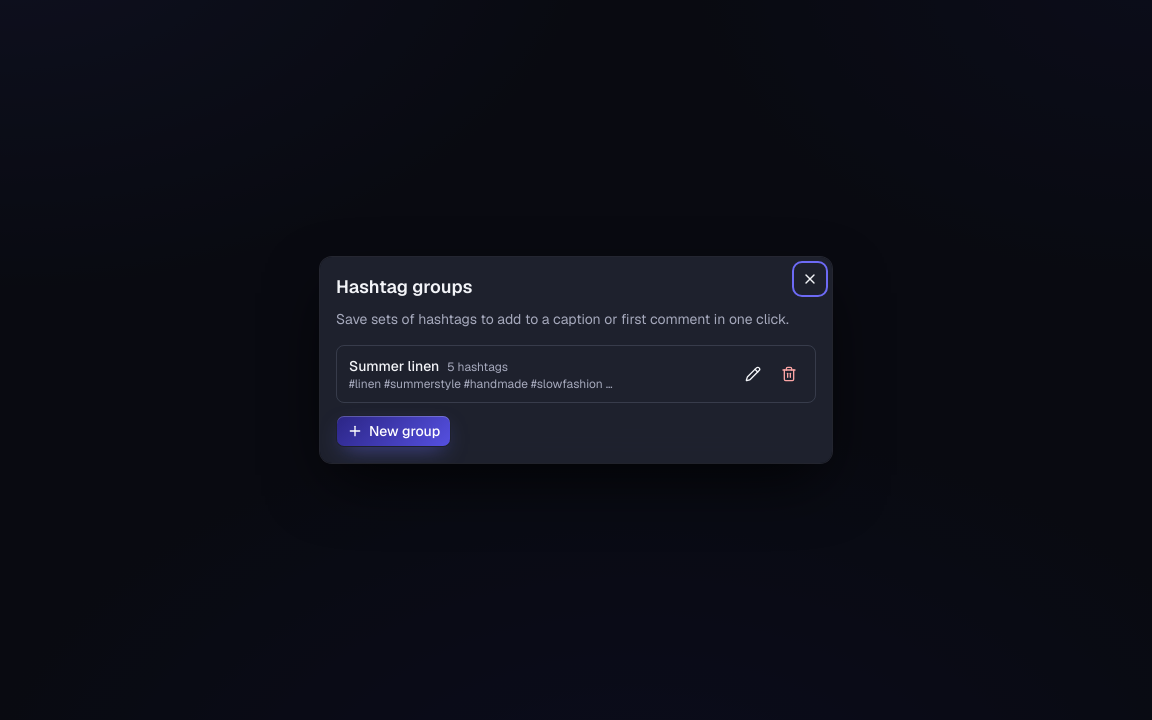
it: HashtagGroupsDialog (UX-SCR-14, FR-PUB-12) › shows the API's field error
Step 1. Click the button "New group" → click(394, 431), box [336,415,451,447]
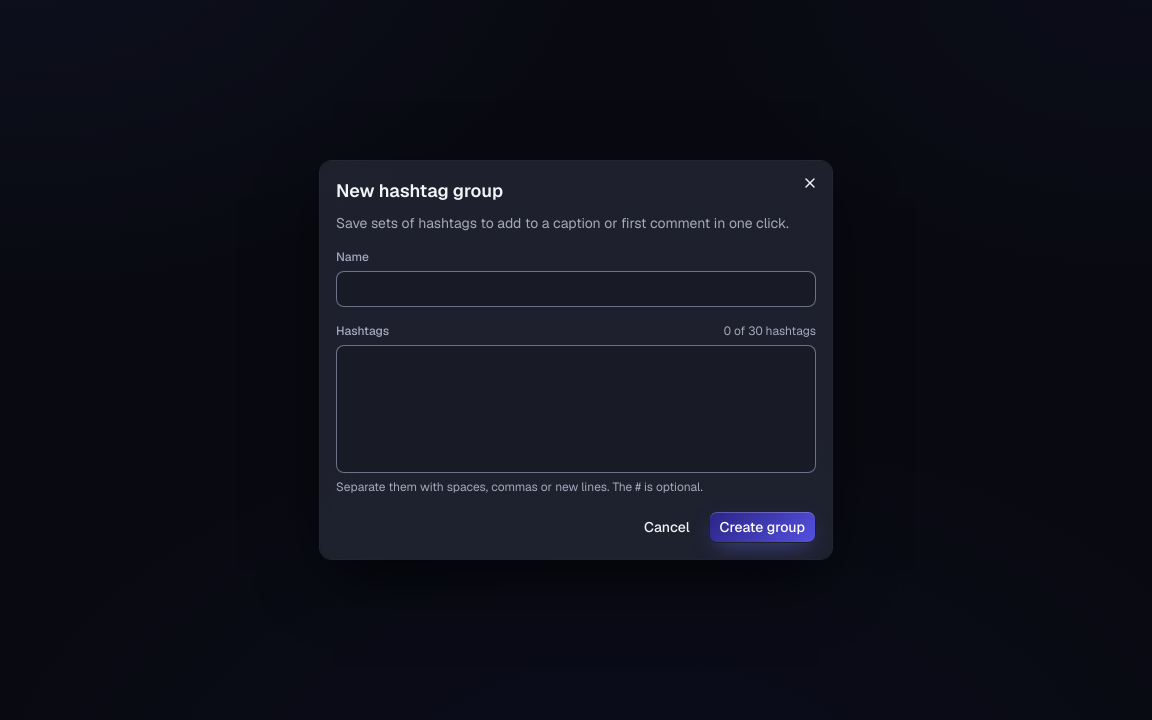
Step 2. Type "summer linen" into the field labelled "Name" → (576, 289), box [336,271,816,307]
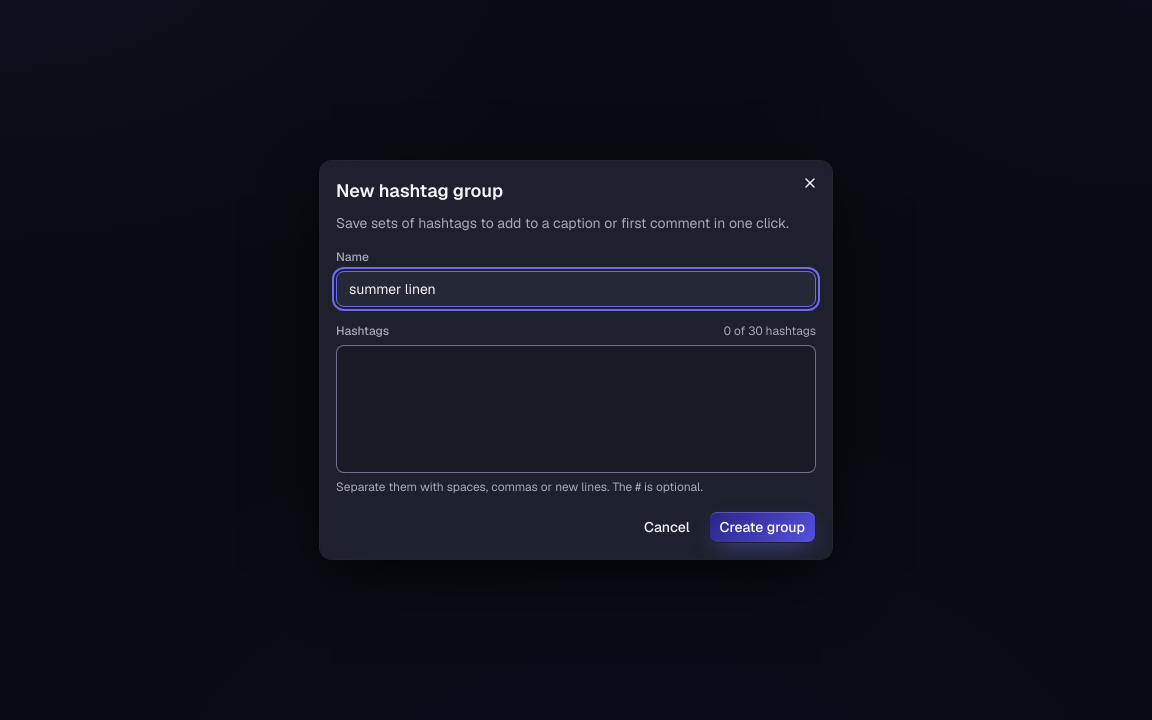
Step 3. Type "linen" into the text box labelled "Hashtags" → (576, 409), box [336,345,816,473]
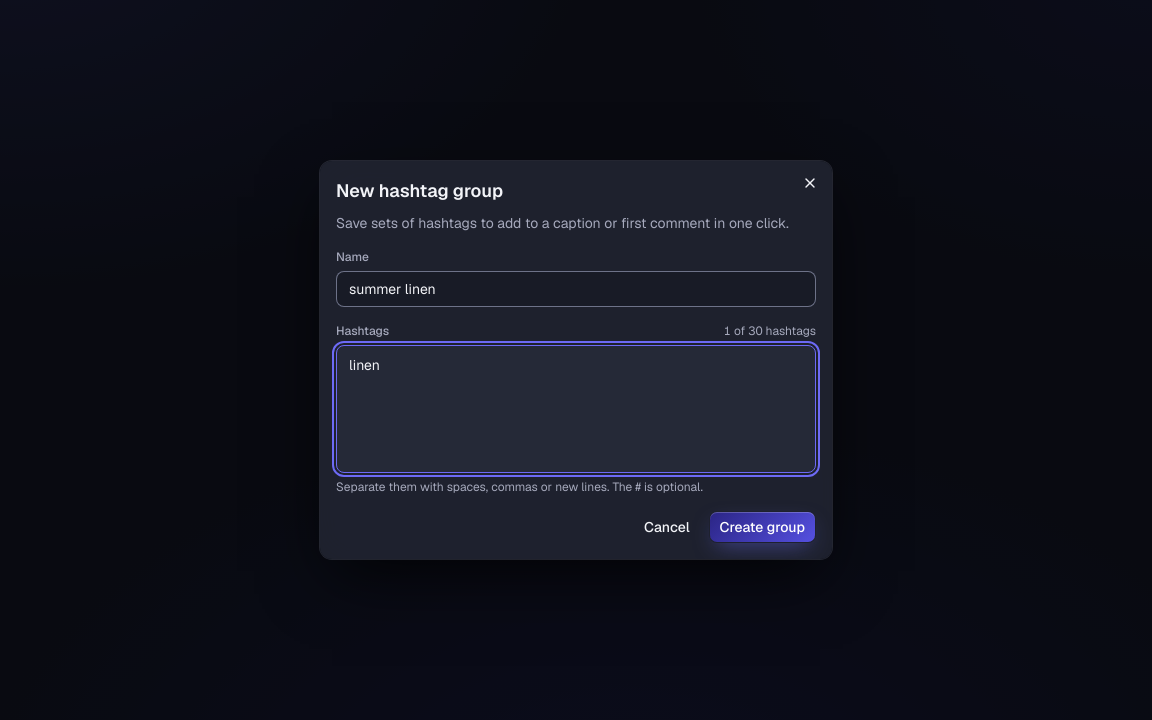
Step 4. Click the button "Create group" → click(762, 527), box [709,511,816,543]
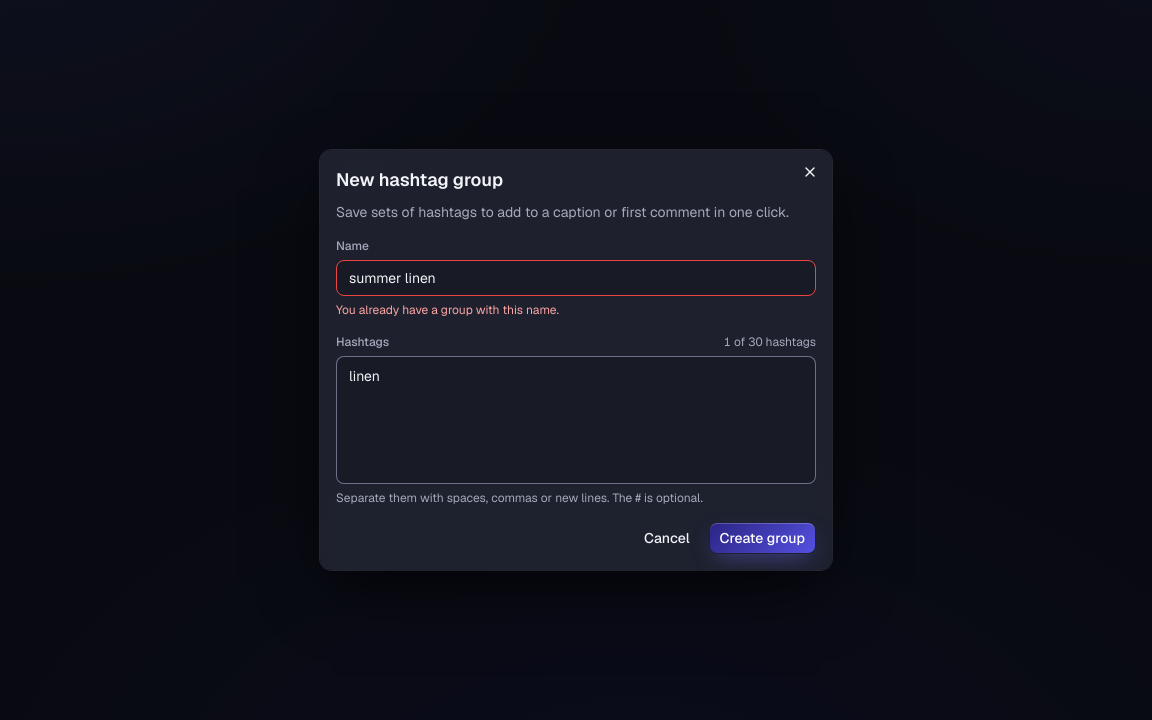
Check: the text "You already have a group with this name." is shown, box [336,302,559,318]
